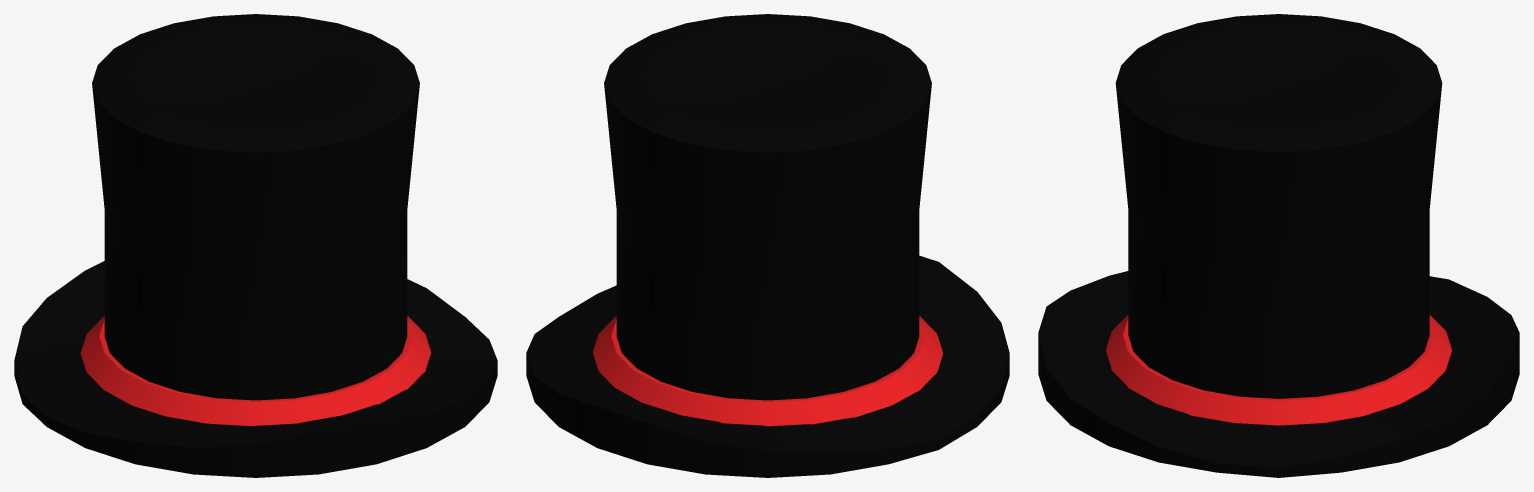
The model's file is tophat.fbx.
The picture shows the model from 3 angles, left to right: view 1: azimuth 30°, elevation 25°; view 2: azimuth 150°, elevation 25°; view 3: azimuth 270°, elevation 25°; orthographic projection.
Visible parts, largest first — view 1: Cartola; view 2: Cartola; view 3: Cartola.
Part boxes in pixels (left/top/right/bottom): Cartola: left=14, top=14, right=497, bottom=477; Cartola: left=526, top=14, right=1009, bottom=477; Cartola: left=1038, top=14, right=1519, bottom=477.
Bounding box in the file's own units: 82.07 × 56.4 × 82.07.
